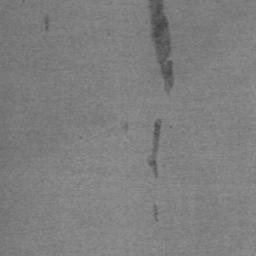Iron scale compression: (148, 0, 172, 95), (147, 119, 162, 178), (151, 203, 158, 222), (42, 14, 50, 30), (122, 123, 128, 133)
